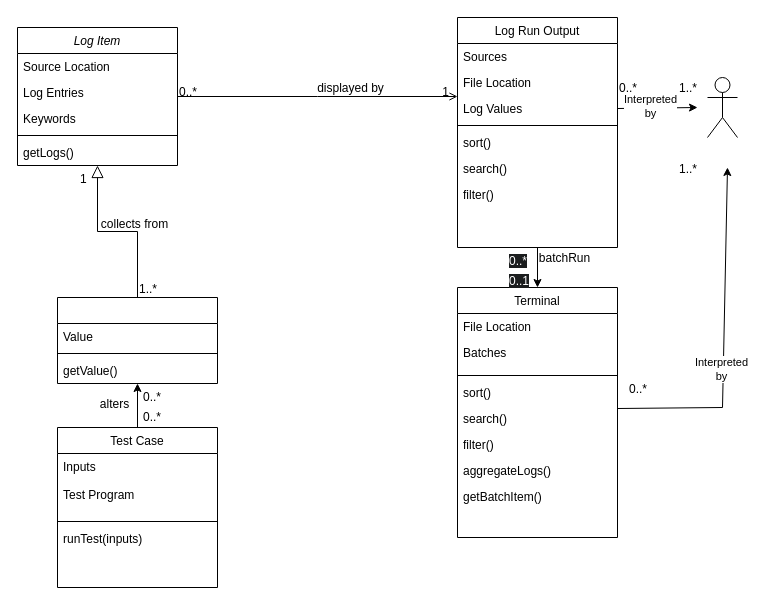
The diagram is 766 pixels wide and 605 high, and some of its shapes have lost their labels. The shapes that lost their labels are listed below. From the top down, each one's box as (x1, y1, x2, y2) in pixels, then its label:
(706, 76, 738, 138): Actor
(56, 296, 218, 384): Attribute Values
